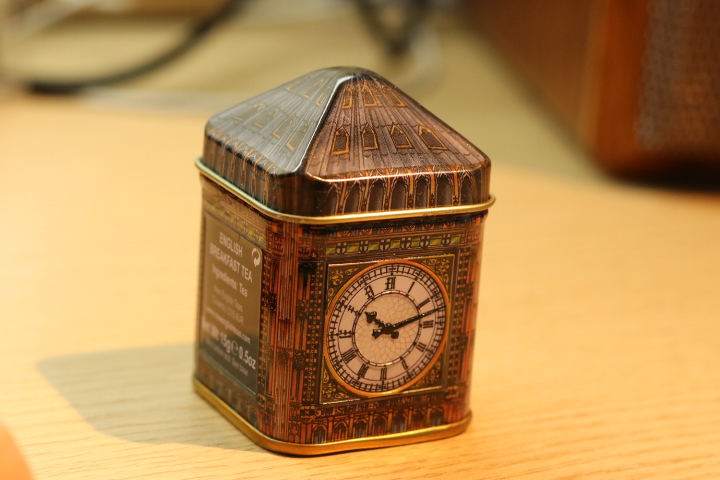Big Ben: (186, 60, 502, 469)
